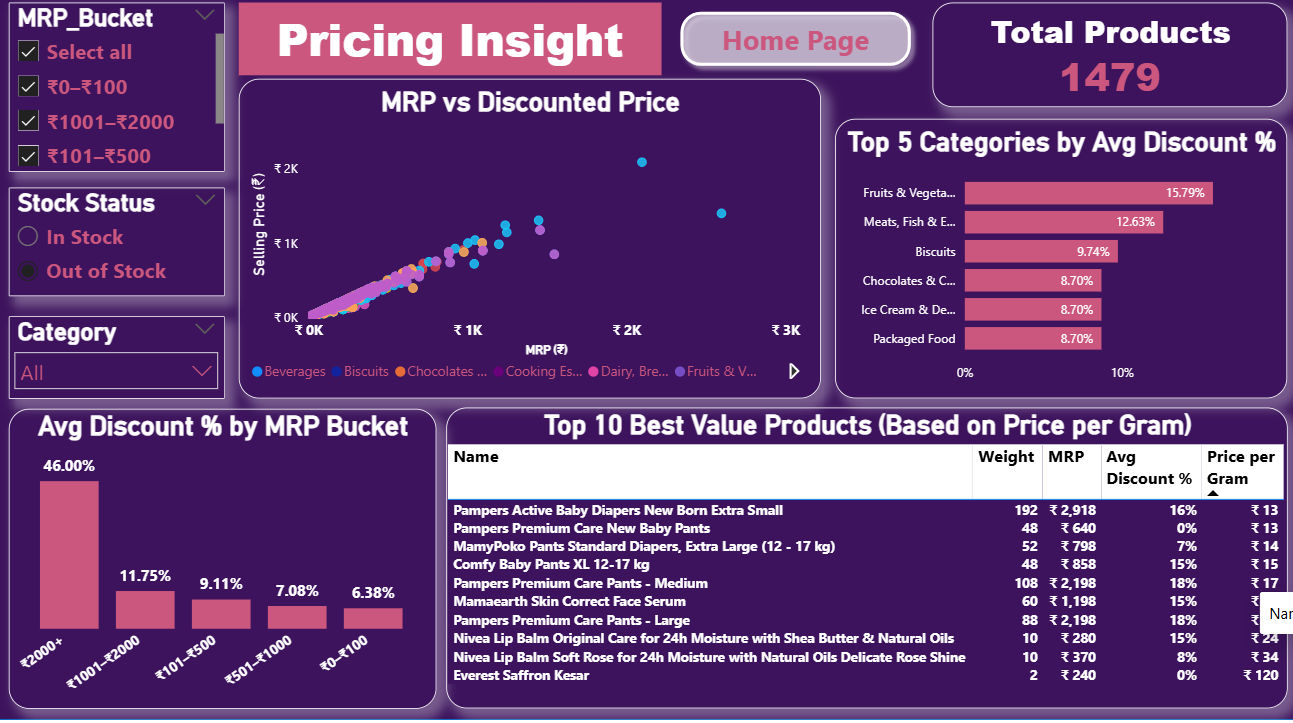

What the dashboard file says about the page in this screenshot:
{"tool":"powerbi","page":{"name":"Pricing Insights","canvas":[1280,720],"ordinal":1},"visuals":[{"type":"shape","title":"Avg Discount % by MRP Bucket","box":[3.7,6.1,1270.5,708],"z":0},{"type":"clusteredBarChart","title":"Top 5 Categories by Avg Discount %","fields":{"Category":["zepto.category"],"Y":["zepto.Avg Discount %"]},"box":[821.7,125.3,442.6,273.9],"z":1000},{"type":"clusteredColumnChart","title":"Avg Discount % by MRP Bucket","fields":{"Y":["zepto.Avg Discount %"],"Category":["zepto.MRP_Bucket"]},"box":[14,409.3,418.2,293.6],"z":2000},{"type":"slicer","fields":{"Values":["zepto.category"]},"box":[13.7,319,210.8,80.8],"z":3000},{"type":"slicer","fields":{"Values":["zepto.outOfStock"]},"box":[13.5,193.2,211.6,106.4],"z":4000},{"type":"slicer","fields":{"Values":["zepto.MRP_Bucket"]},"box":[13.7,12.3,210.8,165.6],"z":5000},{"type":"scatterChart","title":"MRP vs Discounted Price","fields":{"Category":["zepto.Name"],"X":["zepto.MRP"],"Y":["zepto.discountsellingprice"],"Series":["zepto.category"]},"box":[238.3,86.7,569.4,312.6],"z":6000},{"type":"card","title":"Total Products","fields":{"Values":["zepto.Total Products"]},"box":[917.1,12.2,347.3,102.7],"z":7000},{"type":"textbox","box":[238.5,12.2,413.3,70.9],"z":8000},{"type":"tableEx","title":"Top 10 Best Value Products (Based on Price per Gram)","fields":{"Values":["UniqueProducts.Name","UniqueProducts.Total_Weight_Value","UniqueProducts.Total_MRP_Value","UniqueProducts.Avg_Discount_Value","UniqueProducts.Avg_PricePerGram_Value"]},"box":[441.9,408.9,822.9,294.6],"z":9000},{"type":"actionButton","box":[661.6,12.2,243.3,70.9],"z":10000}]}

Visuals, with their boxes in screenshot pixels (x1, y1, x2, y2), scaled from the page's 1280x720 canvas onto the 1293x723 screenshot:
"Avg Discount % by MRP Bucket" shape: rect(4, 6, 1287, 717)
"Top 5 Categories by Avg Discount %" clusteredBarChart: rect(830, 126, 1277, 401)
"Avg Discount % by MRP Bucket" clusteredColumnChart: rect(14, 411, 437, 706)
slicer - zepto.category: rect(14, 320, 227, 401)
slicer - zepto.outOfStock: rect(14, 194, 227, 301)
slicer - zepto.MRP_Bucket: rect(14, 12, 227, 179)
"MRP vs Discounted Price" scatterChart: rect(241, 87, 816, 401)
"Total Products" card: rect(926, 12, 1277, 115)
textbox: rect(241, 12, 658, 83)
"Top 10 Best Value Products (Based on Price per Gram)" tableEx: rect(446, 411, 1278, 706)
actionButton: rect(668, 12, 914, 83)
